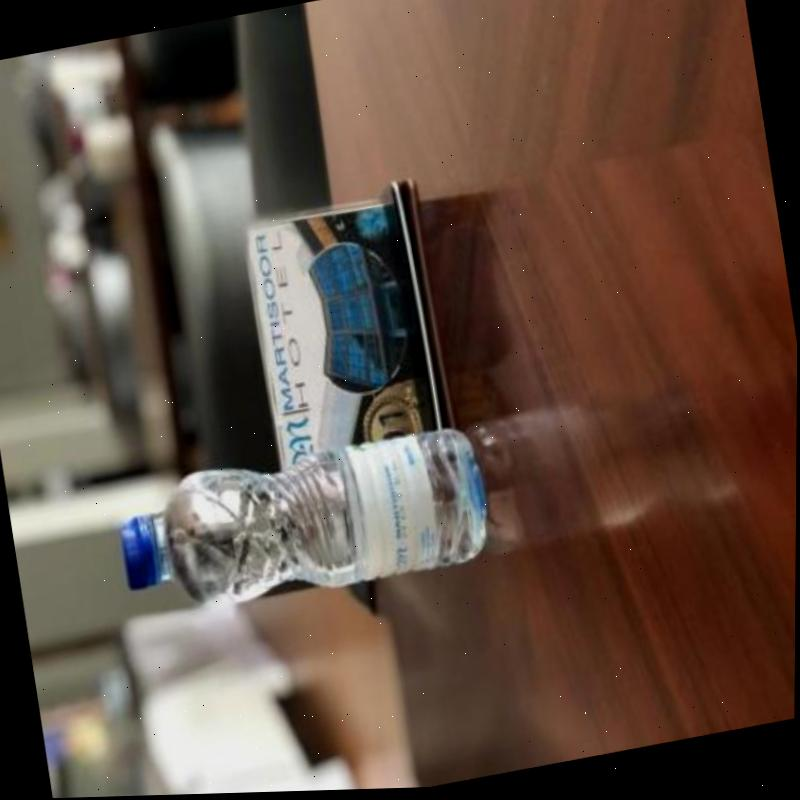botella: (114, 419, 498, 626)
